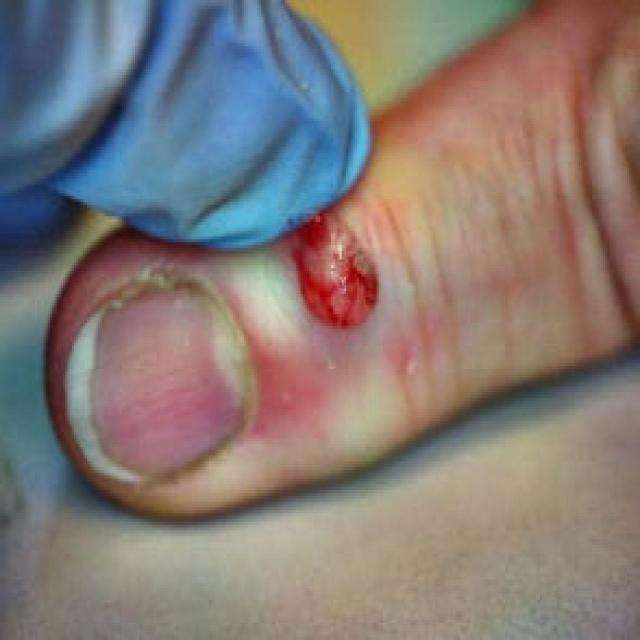Seborrheic-Keratoses-and-other-Benign-Tumors: (143, 207, 482, 373)
